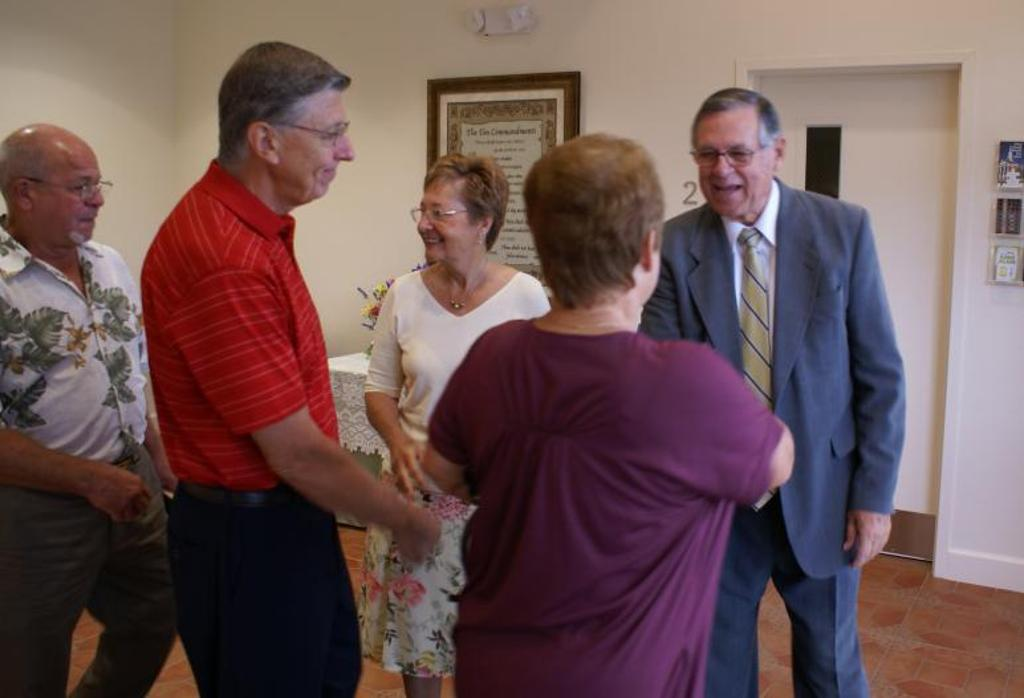face: (278, 82, 352, 196), (696, 112, 772, 214), (36, 144, 104, 242), (418, 180, 476, 268)
